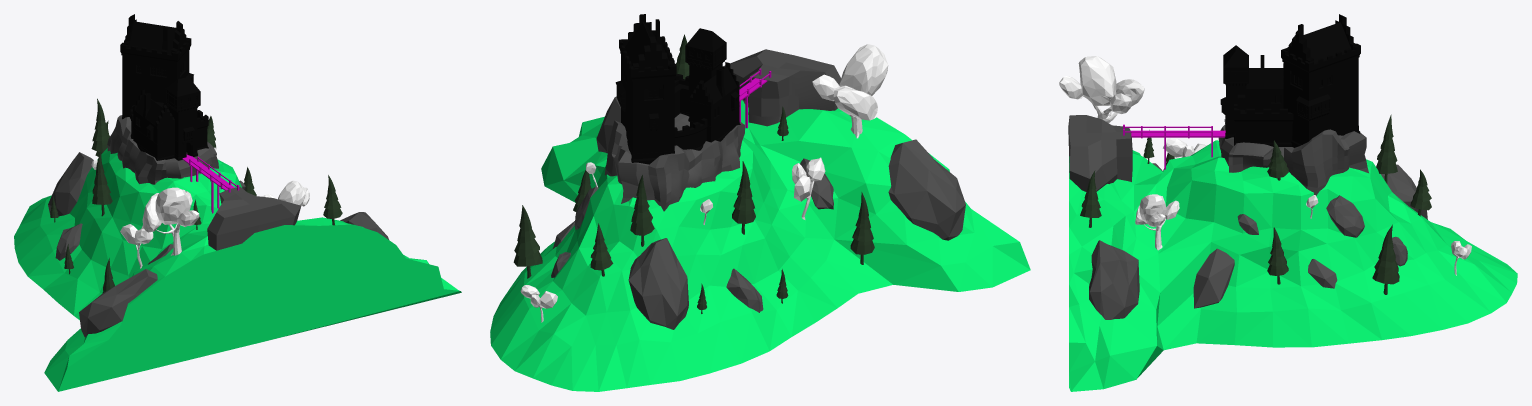
The model's file is castle.FBX.
3 renders of one model, left to right at view 1: azimuth 30°, elevation 25°; view 2: azimuth 150°, elevation 25°; view 3: azimuth 270°, elevation 25°, orthographic. The views are drawn at different scales.
Visible parts, largest first — view 1: Terrain, Object007, Tower, Tree, Oh Tannenbaum Ohhhhhh010, Bridge; view 2: Terrain, Object007, Tower, Oh Tannenbaum Ohhhhhh010, Tree, Bridge; view 3: Terrain, Object007, Tower, Tree, Oh Tannenbaum Ohhhhhh010, Bridge.
Part boxes in pixels (x1,y1,x2,y2): Terrain: (14, 148, 461, 391); Object007: (48, 115, 388, 336); Tower: (120, 14, 208, 160); Tree: (91, 142, 309, 268); Oh Tannenbaum Ohhhhhh010: (50, 98, 342, 293); Bridge: (182, 154, 239, 213); Terrain: (490, 100, 1030, 391); Object007: (551, 49, 965, 329); Tower: (615, 14, 740, 164); Oh Tannenbaum Ohhhhhh010: (513, 34, 874, 313); Tree: (520, 44, 888, 322); Bridge: (739, 68, 771, 127); Terrain: (1069, 140, 1517, 391); Object007: (1068, 115, 1427, 319); Tower: (1220, 14, 1360, 147); Tree: (1059, 56, 1471, 275); Oh Tannenbaum Ohhhhhh010: (1080, 114, 1431, 294); Bridge: (1123, 124, 1225, 169).
Size of the model in its own units: 1282 by 724 by 1134.
